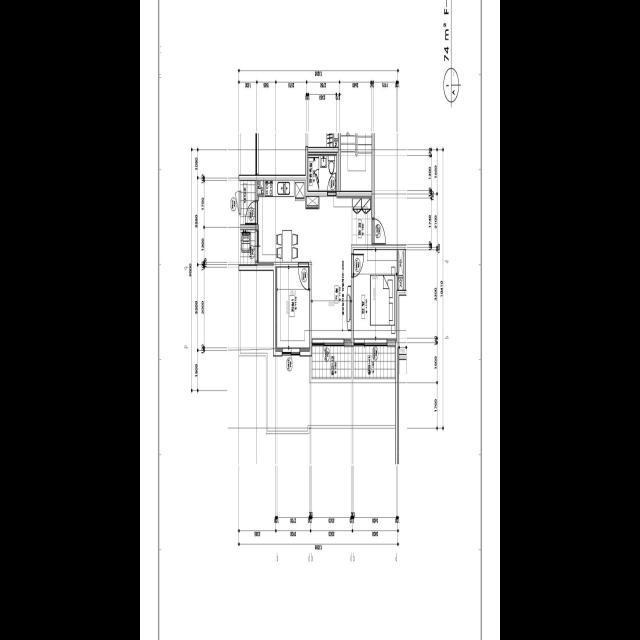background: (148, 0, 494, 640)
space_balconi: (353, 345, 395, 378), (312, 346, 351, 378)
space_bedroom: (354, 249, 397, 341), (276, 267, 309, 351)
space_front: (351, 195, 372, 244)
space_kitchen: (258, 180, 305, 265)
space_living_room: (305, 195, 351, 340)
space_other: (240, 180, 255, 224), (240, 230, 255, 264), (398, 249, 403, 274), (307, 196, 318, 205), (258, 180, 263, 193), (398, 278, 403, 289)
space_staircase: (341, 132, 372, 190)
space_toilet: (308, 155, 337, 191)
